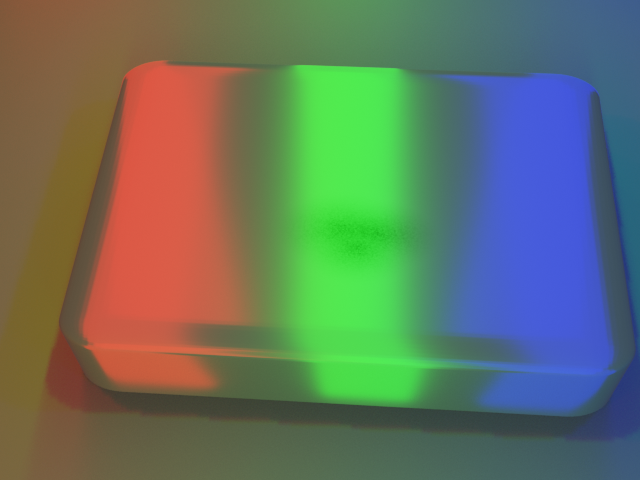stain: (239, 158, 493, 304)
